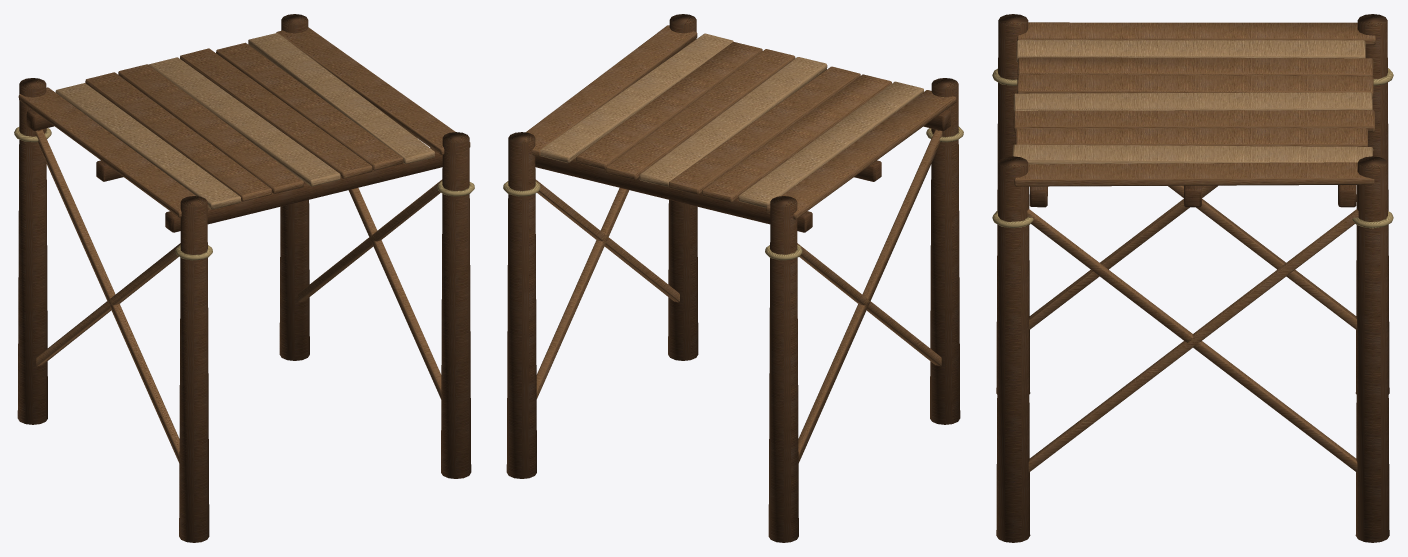
The model's file is pier_section_4m.glb.
3 views of the same model, side by side, from view 1: azimuth 30°, elevation 25°; view 2: azimuth 150°, elevation 25°; view 3: azimuth 270°, elevation 25° (orthographic). The views are drawn at different scales.
Parts seen in each view (by area): view 1: pier_section_4m_Wood_Plank, pier_section_4m_Wood_Dark, pier_section_4m_Wood_Light, pier_section_4m_Rope; view 2: pier_section_4m_Wood_Plank, pier_section_4m_Wood_Dark, pier_section_4m_Wood_Light, pier_section_4m_Rope; view 3: pier_section_4m_Wood_Plank, pier_section_4m_Wood_Dark, pier_section_4m_Wood_Light, pier_section_4m_Rope.
Boxes of the visible parts, left/top/right/bottom form: pier_section_4m_Wood_Plank: left=18, top=27, right=470, bottom=462; pier_section_4m_Wood_Dark: left=17, top=14, right=471, bottom=542; pier_section_4m_Wood_Light: left=55, top=33, right=434, bottom=209; pier_section_4m_Rope: left=14, top=127, right=474, bottom=260; pier_section_4m_Wood_Plank: left=525, top=25, right=956, bottom=462; pier_section_4m_Wood_Dark: left=506, top=14, right=960, bottom=542; pier_section_4m_Wood_Light: left=540, top=33, right=923, bottom=207; pier_section_4m_Rope: left=503, top=126, right=963, bottom=260; pier_section_4m_Wood_Plank: left=1013, top=22, right=1375, bottom=472; pier_section_4m_Wood_Dark: left=996, top=14, right=1389, bottom=542; pier_section_4m_Wood_Light: left=1012, top=40, right=1373, bottom=164; pier_section_4m_Rope: left=992, top=68, right=1393, bottom=228.
Bounding box in the file's own units: 4.05 × 4.4 × 4.29.
Materials: 4 (4 with a texture image).
